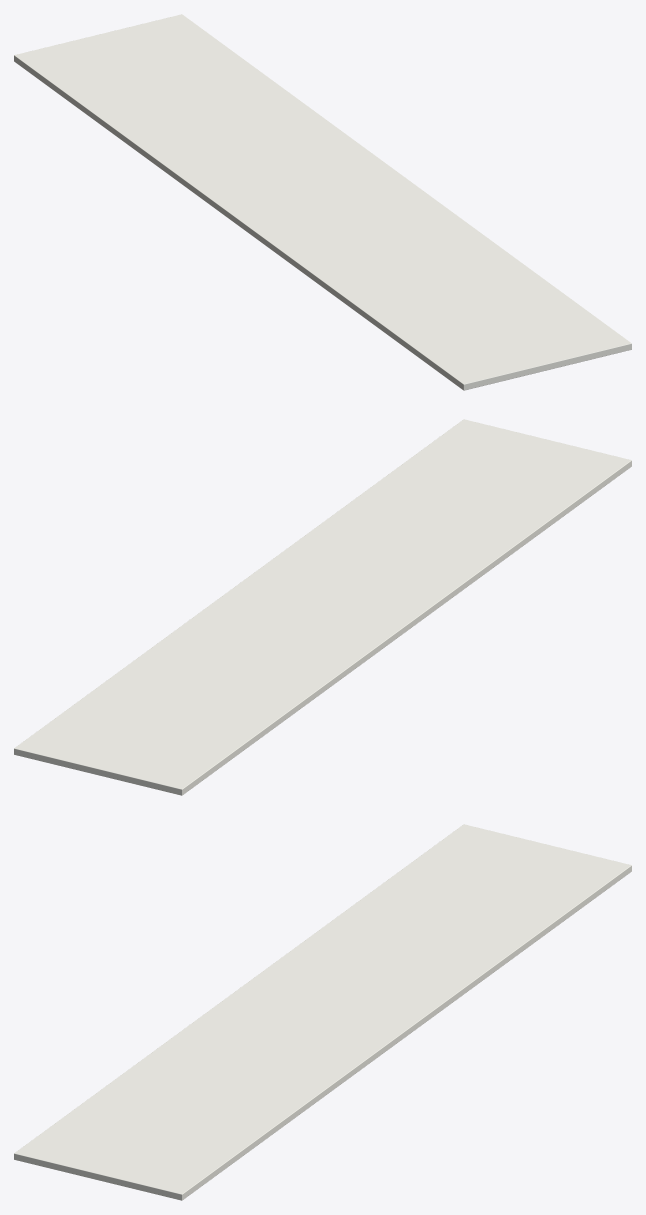
The model's file is 34 - FORSAND Door - white 50x229 cm.glb.
3 renders of one model, top to bottom at view 1: azimuth 30°, elevation 25°; view 2: azimuth 150°, elevation 25°; view 3: azimuth 330°, elevation 25°, orthographic.
Parts seen in each view (by area): view 1: 60391091-FORSAND001; view 2: 60391091-FORSAND001; view 3: 60391091-FORSAND001.
Boxes of the visible parts, x1,y1,x2,y2 form: 60391091-FORSAND001: [14, 14, 631, 390]; 60391091-FORSAND001: [14, 419, 631, 795]; 60391091-FORSAND001: [14, 824, 631, 1200].
Bounding box in the file's own units: 0.4955 × 0.018 × 2.29.
Materials: 1 (1 with a texture image).
